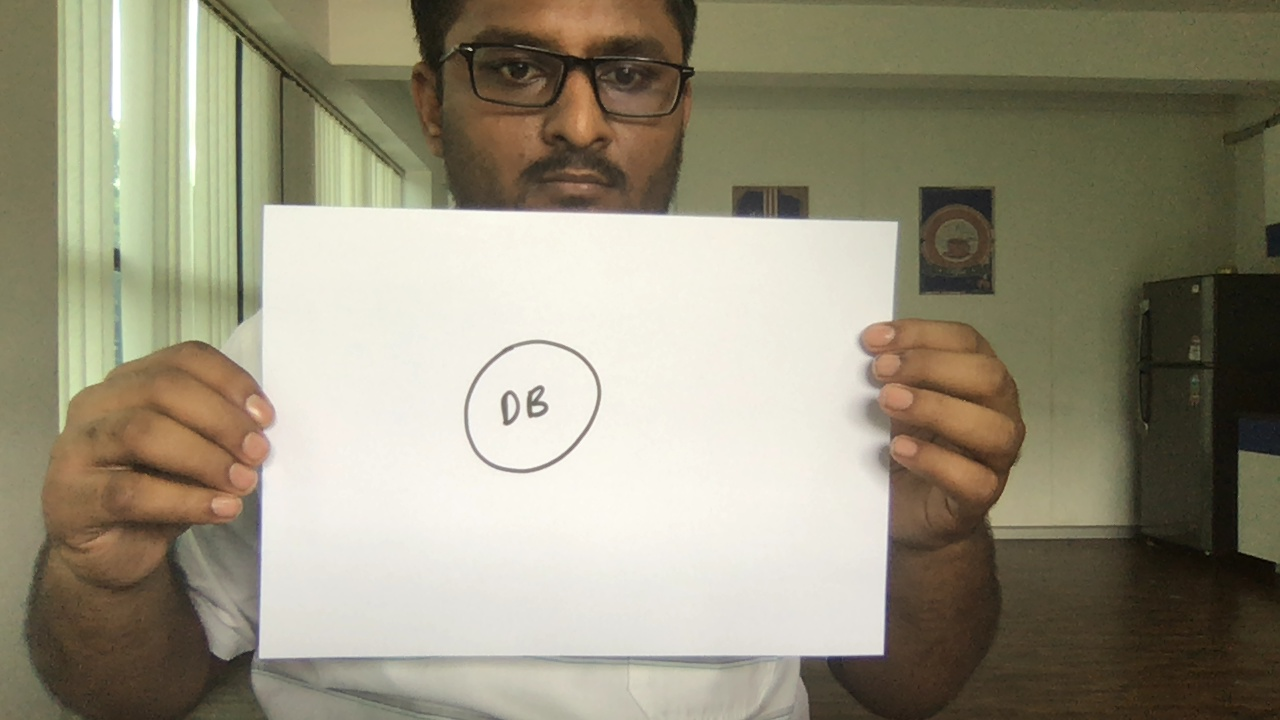db: (459, 330, 610, 484)
